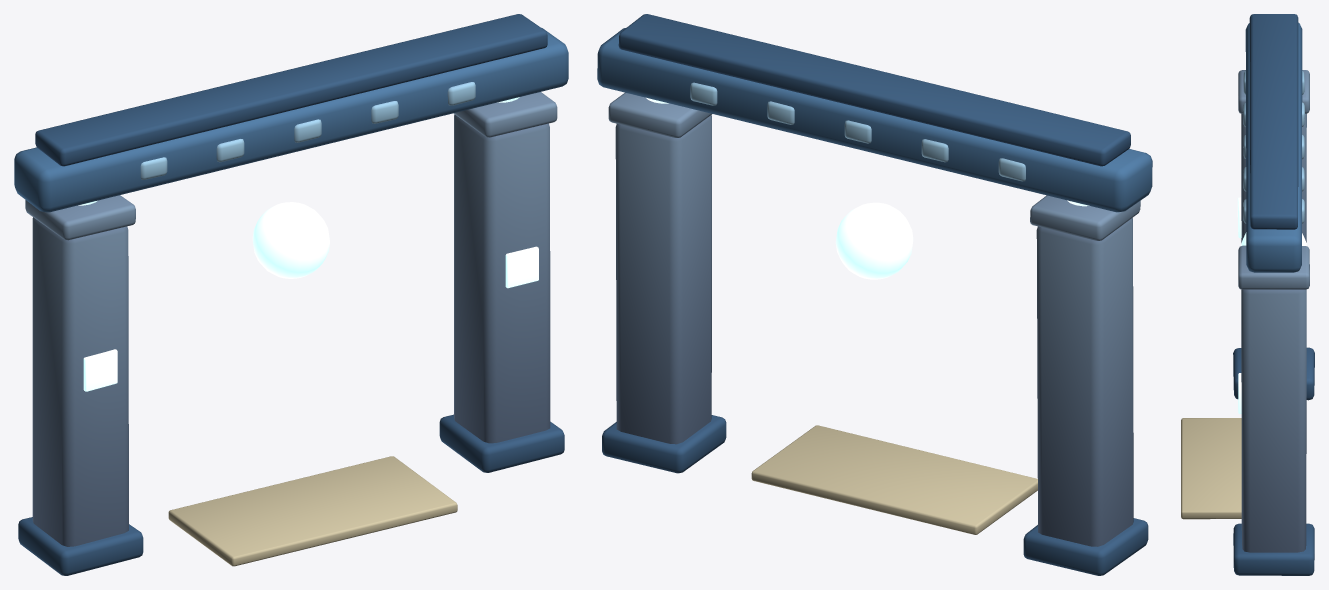
3 views of the same model, side by side, from view 1: azimuth 30°, elevation 25°; view 2: azimuth 150°, elevation 25°; view 3: azimuth 270°, elevation 25° (orthographic). The views are drawn at different scales.
Visible parts, largest first — view 1: gate_2fe031e0; view 2: gate_2fe031e0; view 3: gate_2fe031e0.
Boxes of the visible parts, bbox=[...] form: gate_2fe031e0: bbox=[14, 14, 568, 575]; gate_2fe031e0: bbox=[597, 14, 1152, 575]; gate_2fe031e0: bbox=[1181, 14, 1314, 575].
Size of the model in its own units: 5.64 by 4.27 by 1.44.
